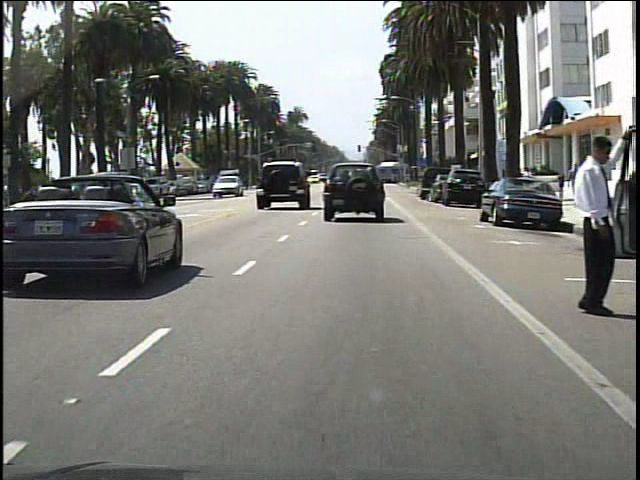person: (560, 127, 615, 326)
